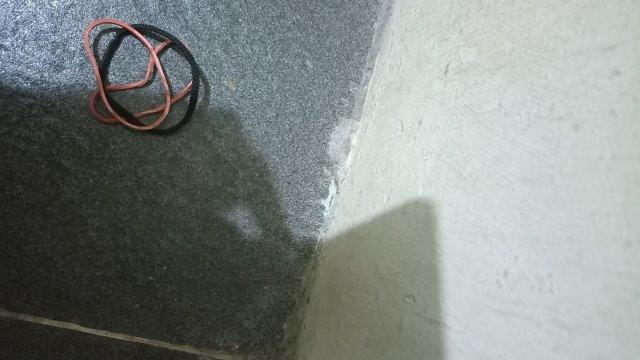karet: (85, 19, 198, 136)
